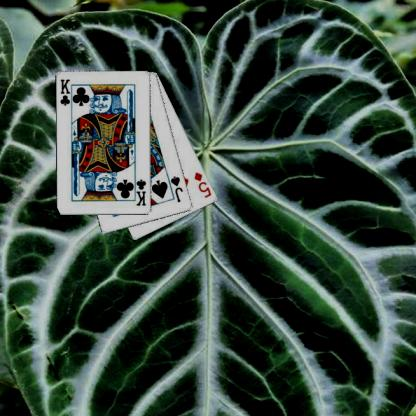5D: (192, 169, 212, 199)
JS: (168, 174, 184, 204)
KC: (131, 174, 148, 207), (58, 77, 74, 110)
